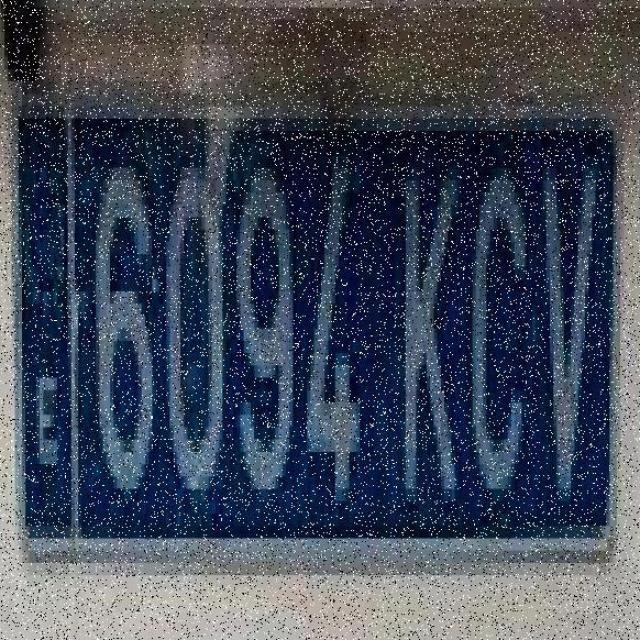license-plate: (29, 112, 599, 544)
